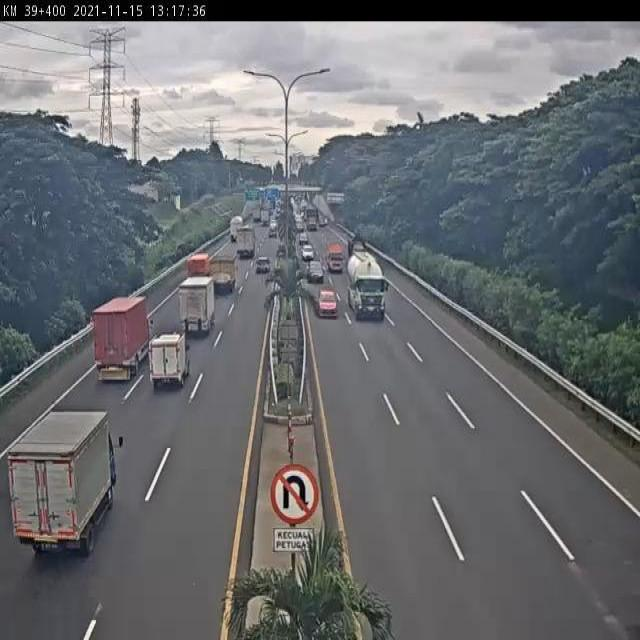car: (316, 288, 340, 321)
truck-m-: (7, 409, 122, 560), (93, 296, 154, 380), (179, 276, 217, 339), (211, 253, 239, 295)
truck-s-: (147, 332, 191, 388)
truck-xl-: (346, 251, 389, 324)
